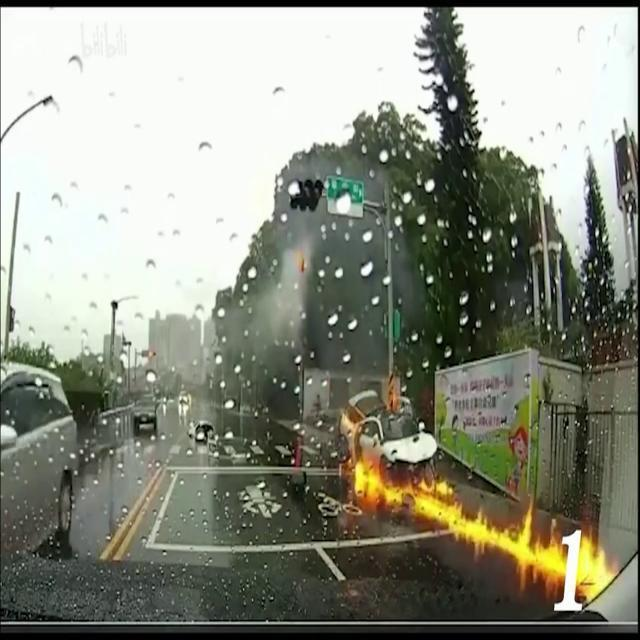accident: (329, 369, 455, 523)
